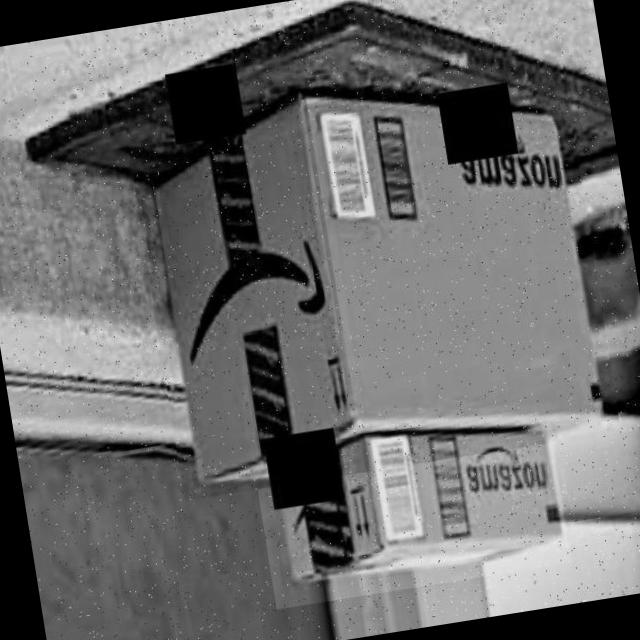box: (124, 45, 622, 500), (253, 412, 572, 610)
